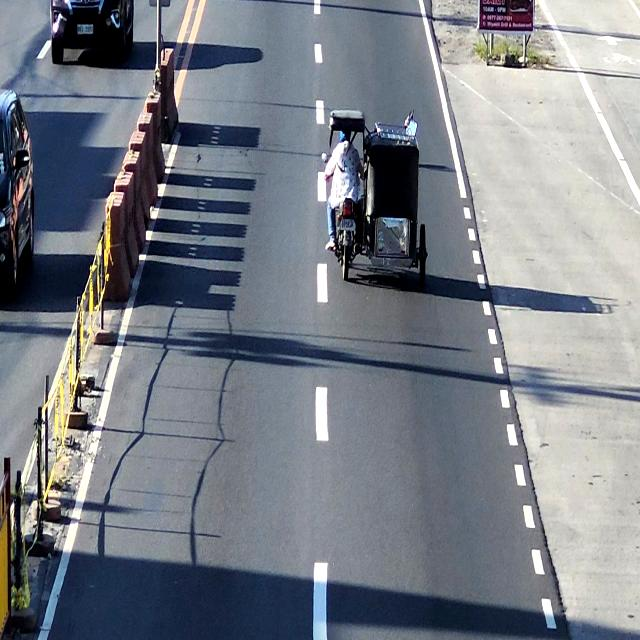License-Plate: (338, 220, 358, 235)
Tricycle: (323, 109, 430, 287)
